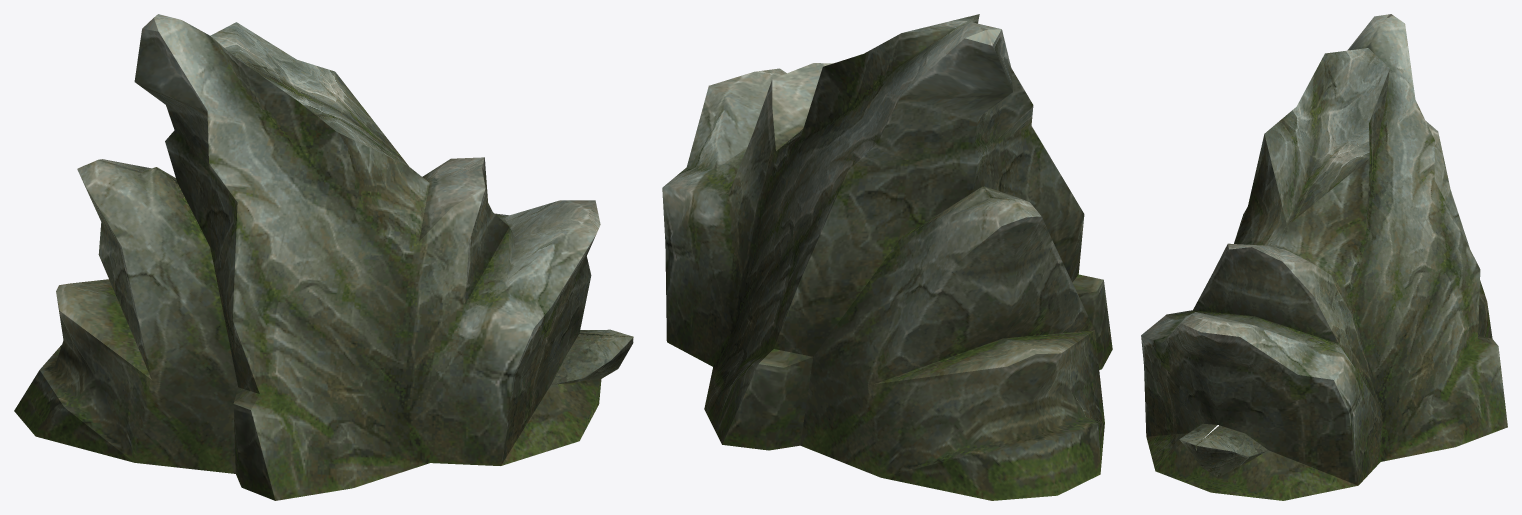
File: 3004_Item_shitou_13.FBX
3 renders of one model, left to right at view 1: azimuth 30°, elevation 25°; view 2: azimuth 150°, elevation 25°; view 3: azimuth 270°, elevation 25°, orthographic. The views are drawn at different scales.
Parts seen in each view (by area): view 1: 3004_Item_shitou_13; view 2: 3004_Item_shitou_13; view 3: 3004_Item_shitou_13.
Boxes of the visible parts, x1,y1,x2,y2 form: 3004_Item_shitou_13: (14, 14, 633, 500); 3004_Item_shitou_13: (662, 14, 1112, 500); 3004_Item_shitou_13: (1141, 14, 1507, 500).
Size of the model in its own units: 241 by 189 by 186.
